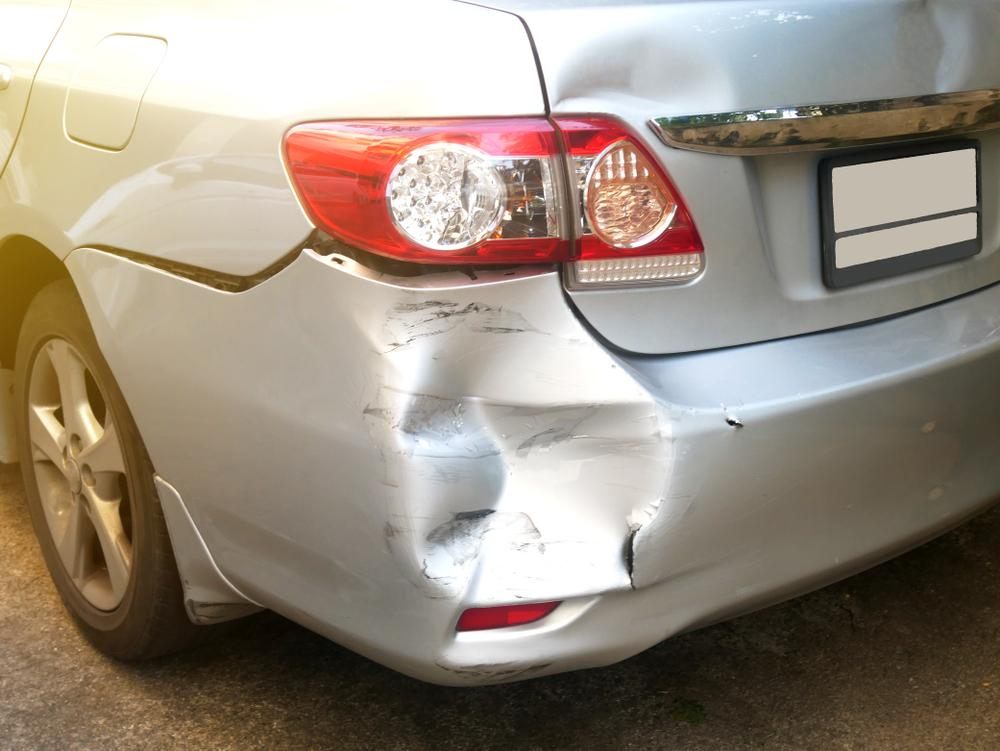crack: (624, 529, 644, 596), (723, 416, 745, 432)
dent: (384, 281, 671, 609), (554, 31, 739, 116), (888, 1, 973, 95)
scratch: (440, 662, 563, 686)
